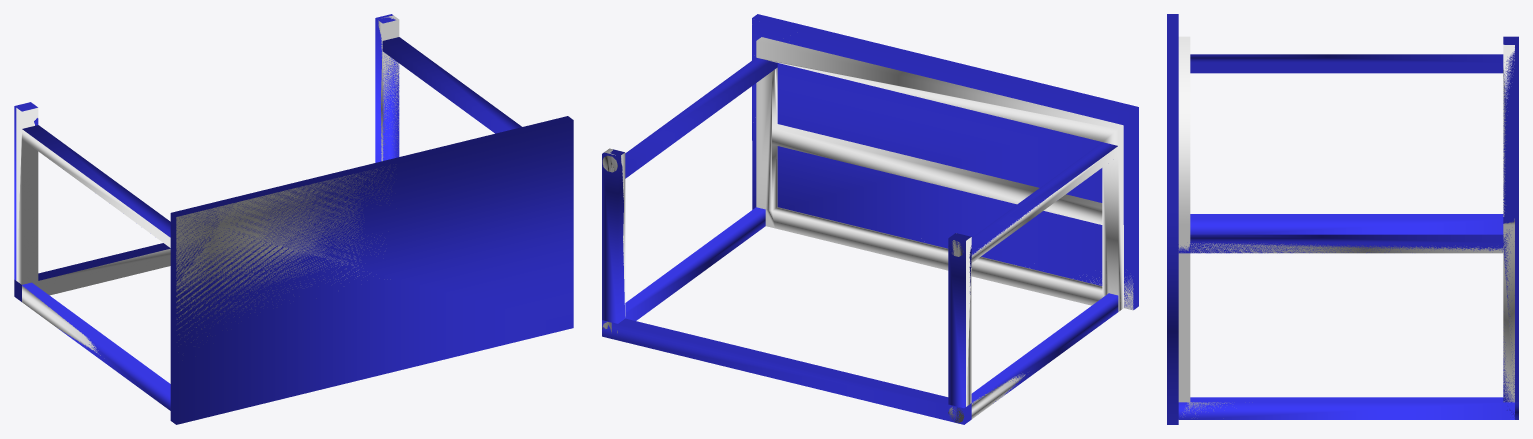
Rendered from table.dae.
3 views of the same model, side by side, from view 1: azimuth 30°, elevation 25°; view 2: azimuth 150°, elevation 25°; view 3: azimuth 270°, elevation 25° (orthographic). The views are drawn at different scales.
Visible parts, largest first — view 1: Node_0x7f619023ad90 (×9); view 2: Node_0x7f619023ad90 (×10); view 3: Node_0x7f619023ad90 (×8).
Boxes of the visible parts, <box> form: Node_0x7f619023ad90 (×9): <box>14,14,573,424</box>; Node_0x7f619023ad90 (×10): <box>602,14,1138,424</box>; Node_0x7f619023ad90 (×8): <box>1167,14,1518,424</box>.
Size of the model in its own units: 1.2 by 0.6001 by 0.9001.
